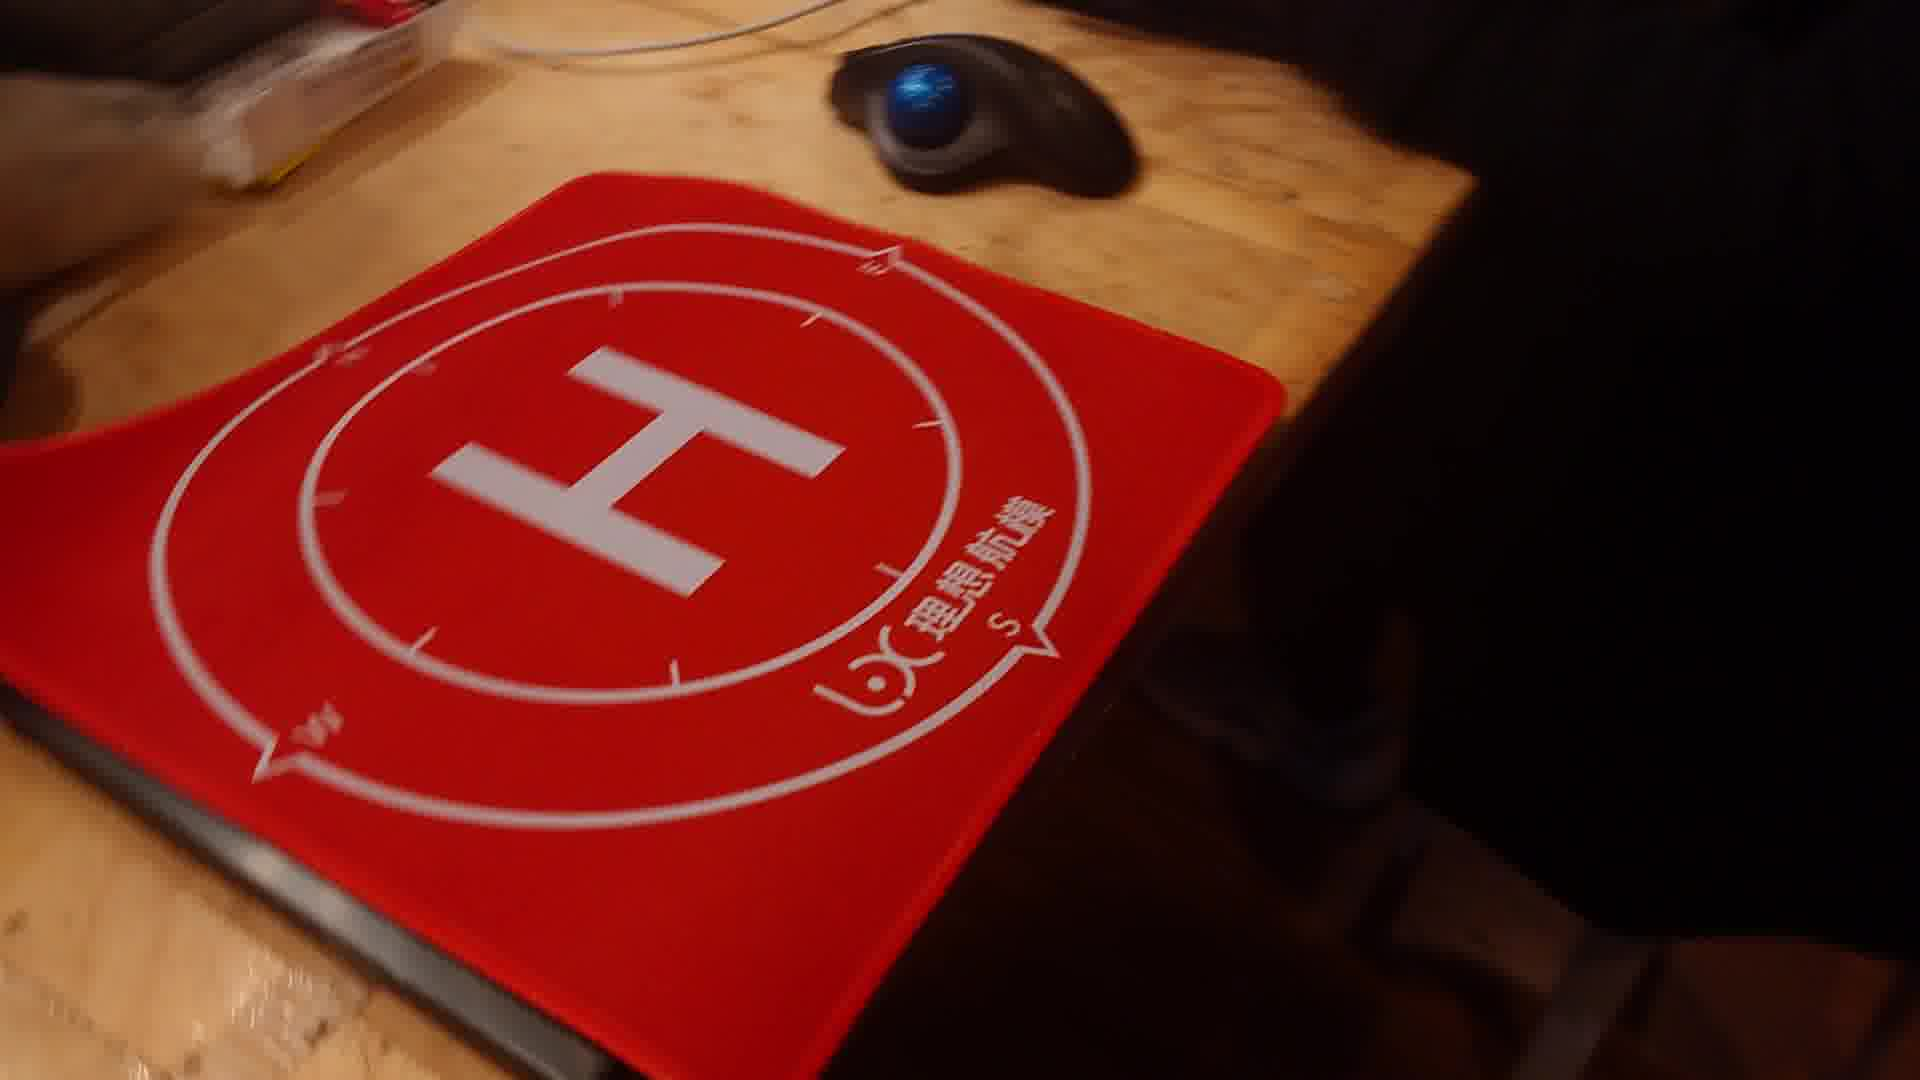H: (425, 345, 849, 604)
